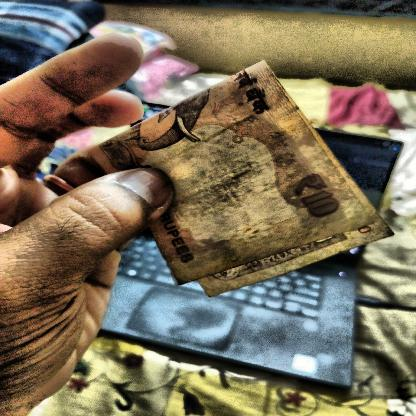Rs10: (282, 167, 350, 226)
